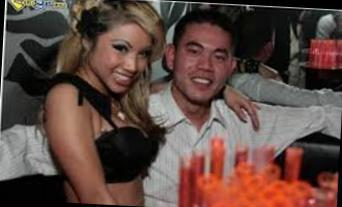Drunk: (177, 26, 230, 105), (98, 23, 151, 92)
